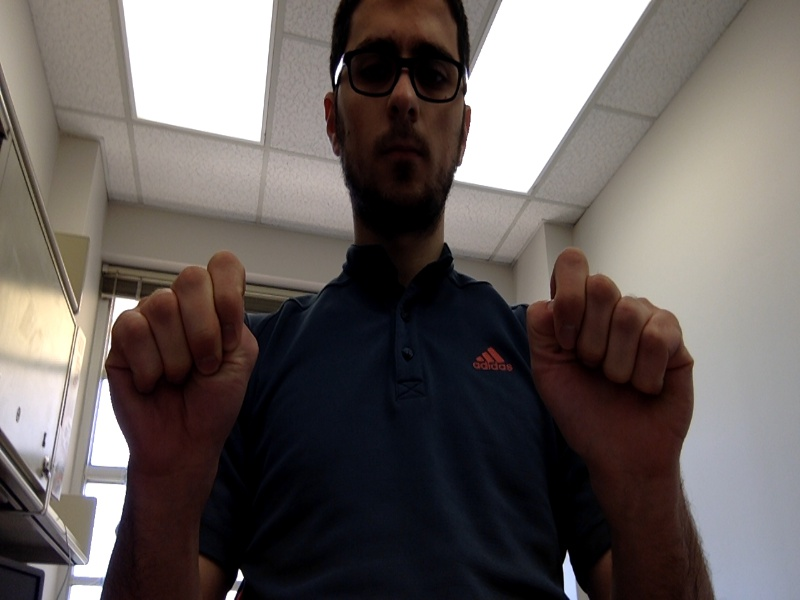0-hand: (526, 251, 697, 480), (106, 253, 256, 475)
